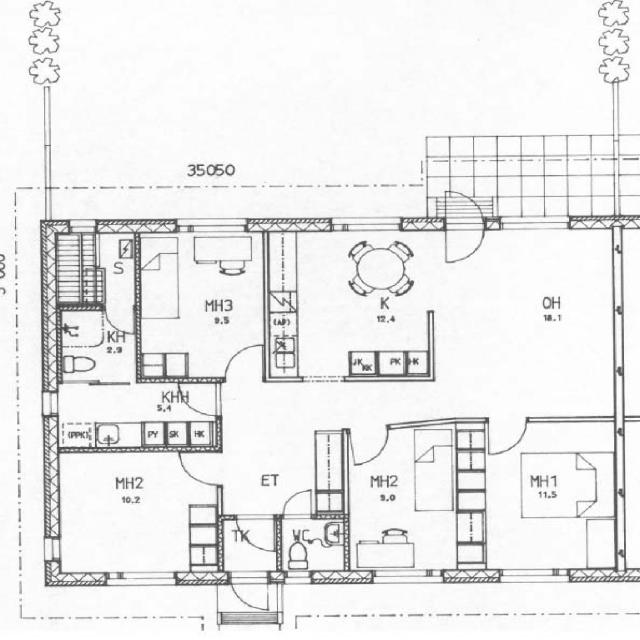door: (56, 304, 134, 384), (275, 510, 348, 582), (439, 198, 487, 266), (226, 568, 272, 614), (174, 450, 226, 489), (220, 341, 267, 384), (344, 425, 389, 469), (177, 379, 225, 420), (233, 512, 278, 555), (441, 187, 487, 229), (485, 417, 527, 458), (100, 301, 140, 337), (278, 486, 317, 522)
window: (494, 210, 579, 238), (495, 565, 573, 587), (104, 569, 177, 591), (330, 216, 410, 234), (178, 215, 251, 234), (613, 491, 632, 559), (368, 569, 444, 584), (39, 388, 60, 421), (40, 536, 62, 563)
zone: (429, 225, 622, 417), (458, 424, 620, 580), (268, 230, 434, 380), (47, 450, 218, 586), (138, 226, 266, 380), (347, 427, 459, 577), (52, 382, 219, 449), (48, 222, 138, 310), (56, 305, 136, 385), (278, 516, 348, 582)
